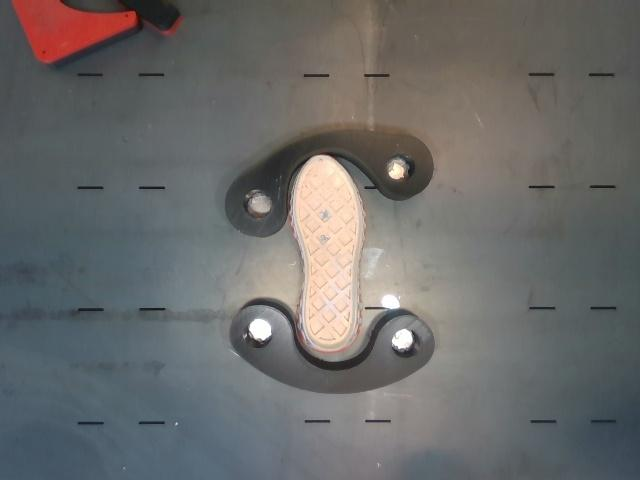shoes: (295, 156, 362, 351)
